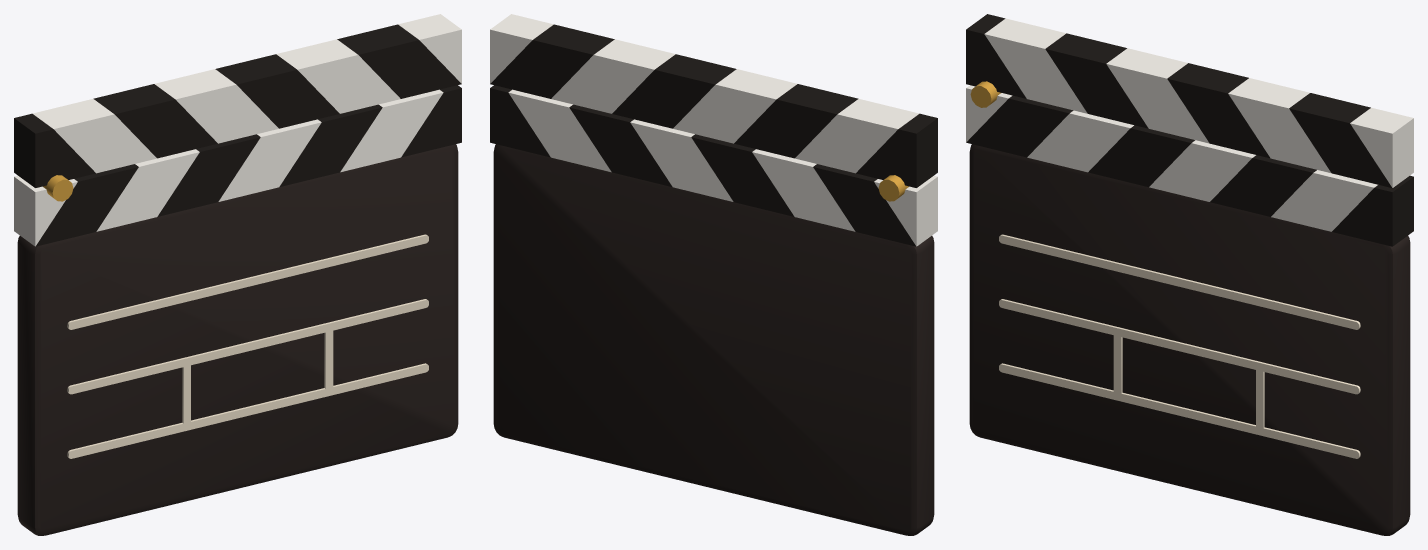
File: clapperboard.glb
3 views of the same model, side by side, from view 1: azimuth 30°, elevation 25°; view 2: azimuth 150°, elevation 25°; view 3: azimuth 330°, elevation 25° (orthographic).
Parts seen in each view (by area): view 1: Slate, Clap; view 2: Slate, Clap; view 3: Slate, Clap.
Part boxes in pixels (x1,y1,x2,y2): Slate: (14,85,461,535); Clap: (14,14,461,187); Slate: (490,85,937,535); Clap: (490,14,937,187); Slate: (966,81,1413,535); Clap: (966,14,1413,187).
Size of the model in its own units: 0.09 by 0.0823 by 0.0124.
